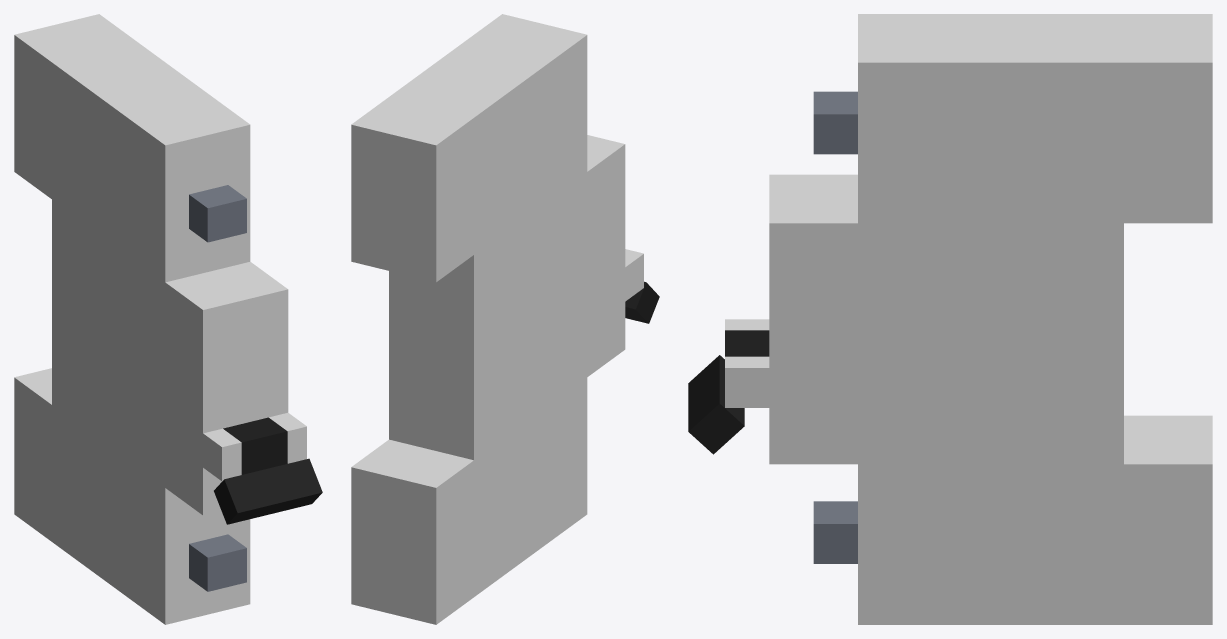
The picture shows the model from 3 angles, left to right: view 1: azimuth 30°, elevation 25°; view 2: azimuth 150°, elevation 25°; view 3: azimuth 270°, elevation 25°; orthographic projection. The views are drawn at different scales.
Visible parts, largest first — view 1: breaker_body_1, screw_hole_2_2, screw_hole_1_0, handle_2_8, screw_2_5, screw_1_6, handle_1_7, breaker_mile_1_3, breaker_mile_2_4; view 2: breaker_body_1, screw_hole_2_2, screw_hole_1_0, handle_2_8, breaker_mile_1_3; view 3: breaker_body_1, screw_hole_2_2, screw_hole_1_0, handle_2_8, screw_1_6, screw_2_5, breaker_mile_2_4, handle_1_7.
Part boxes in pixels (box(x1,y1,x2,y2)): breaker_body_1: box(52, 200, 288, 515); screw_hole_2_2: box(14, 14, 250, 282); screw_hole_1_0: box(14, 368, 250, 624); handle_2_8: box(214, 458, 322, 524); screw_2_5: box(189, 534, 246, 591); screw_1_6: box(189, 185, 246, 242); handle_1_7: box(223, 417, 287, 474); breaker_mile_1_3: box(203, 428, 241, 481); breaker_mile_2_4: box(269, 413, 306, 463); breaker_body_1: box(389, 135, 625, 460); screw_hole_2_2: box(351, 14, 587, 282); screw_hole_1_0: box(351, 378, 587, 624); handle_2_8: box(625, 281, 659, 323); breaker_mile_1_3: box(625, 249, 643, 301); breaker_body_1: box(769, 174, 1123, 464); screw_hole_2_2: box(858, 14, 1212, 223); screw_hole_1_0: box(858, 415, 1212, 624); handle_2_8: box(688, 355, 744, 454); screw_1_6: box(813, 91, 857, 154); screw_2_5: box(813, 501, 857, 563); breaker_mile_2_4: box(725, 356, 769, 407); handle_1_7: box(725, 330, 769, 356).
Bounding box in the file's own units: 0.0406 × 0.2188 × 0.1848.
3 materials, 3 textured.
